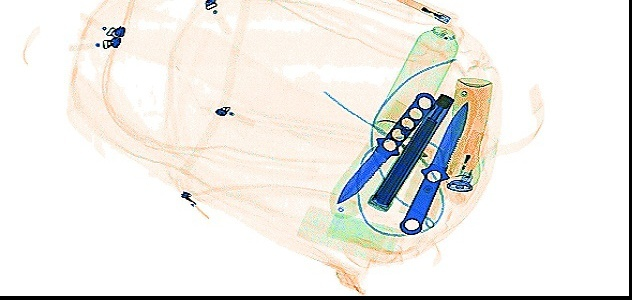knife: (333, 89, 437, 202), (397, 100, 468, 234)
lighter: (451, 126, 490, 188), (396, 1, 451, 25)
pressure: (370, 14, 465, 144), (444, 75, 492, 206)
